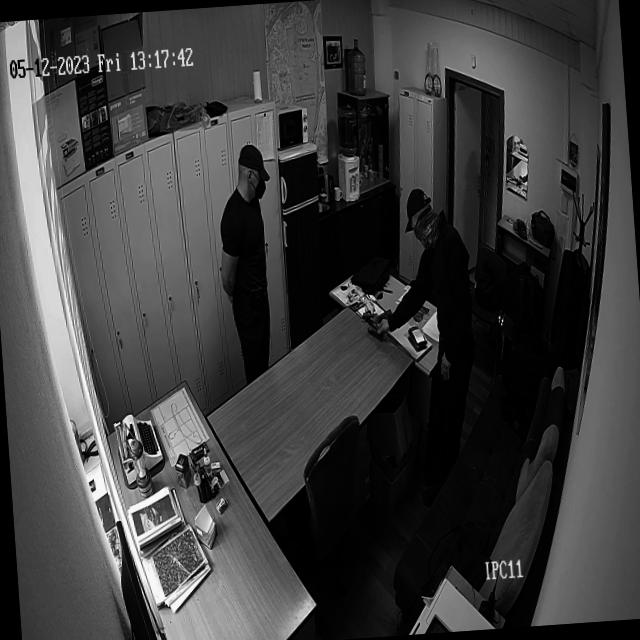person: (366, 182, 488, 514), (212, 142, 286, 388)
